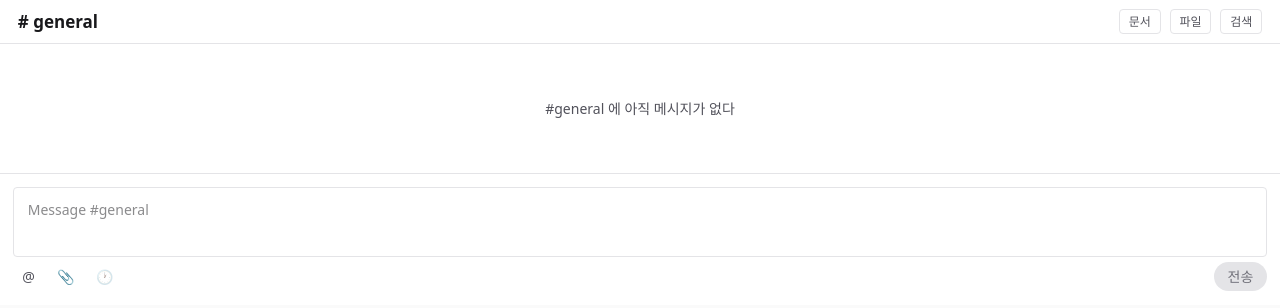
채널 헤더의 문서 진입점 › 헤더의 문서 버튼이 패널을 연다
Step 1. Click the button "문서" → (1140,22), box [1119,9,1161,34]
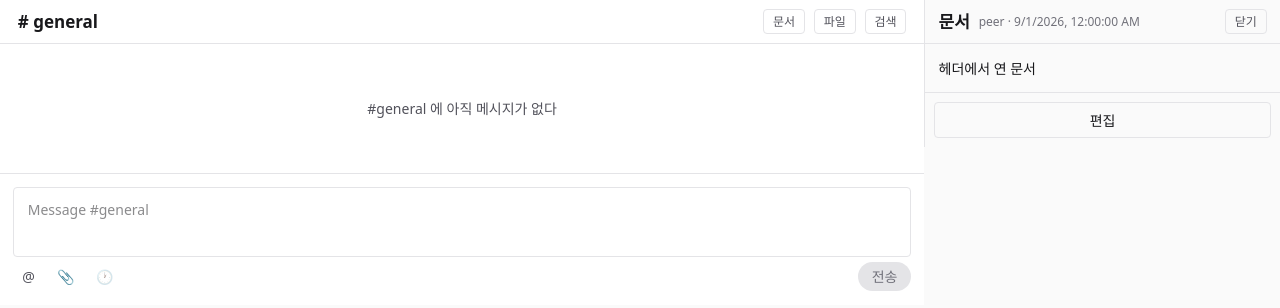
Result: the text "헤더에서 연 문서" is shown at [938,59,1036,78]
